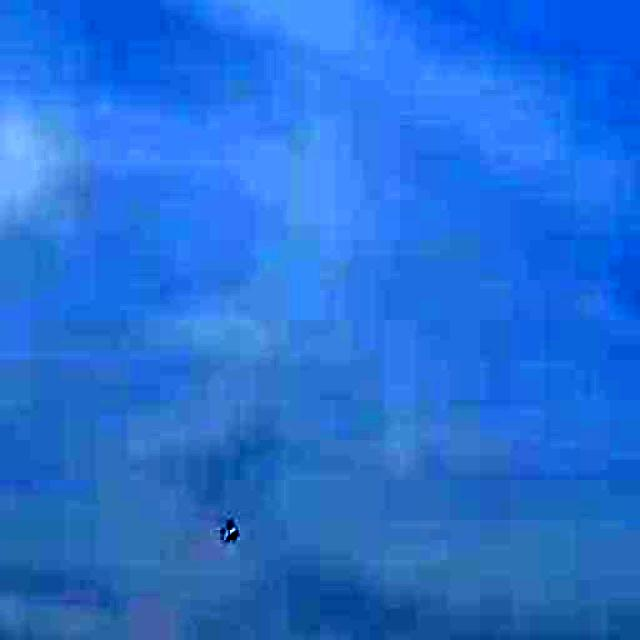drone: (211, 499, 252, 555)
